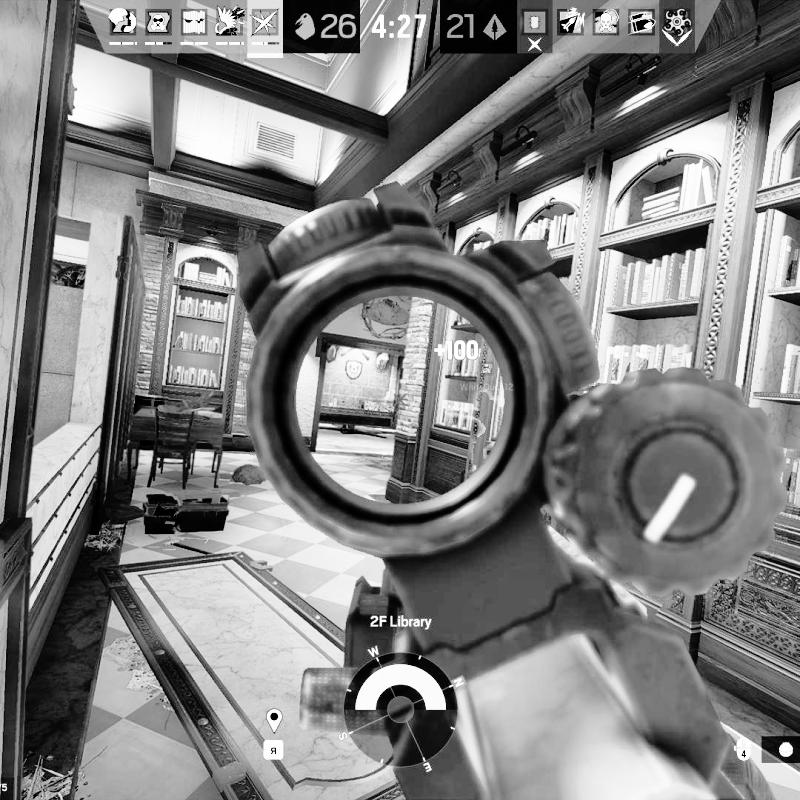Friend_label: (459, 361, 515, 393)
